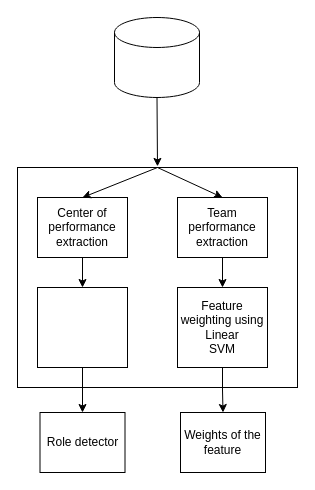
This 315x490 diagram has some shape labels left out. The shapes that lost their labels are listed below. From the top down, each one's centre as x and y in pixels, then its label:
At point (157, 57): "Soccer logs".
At point (82, 327): "Role detector learning using fuzzy c-means".
